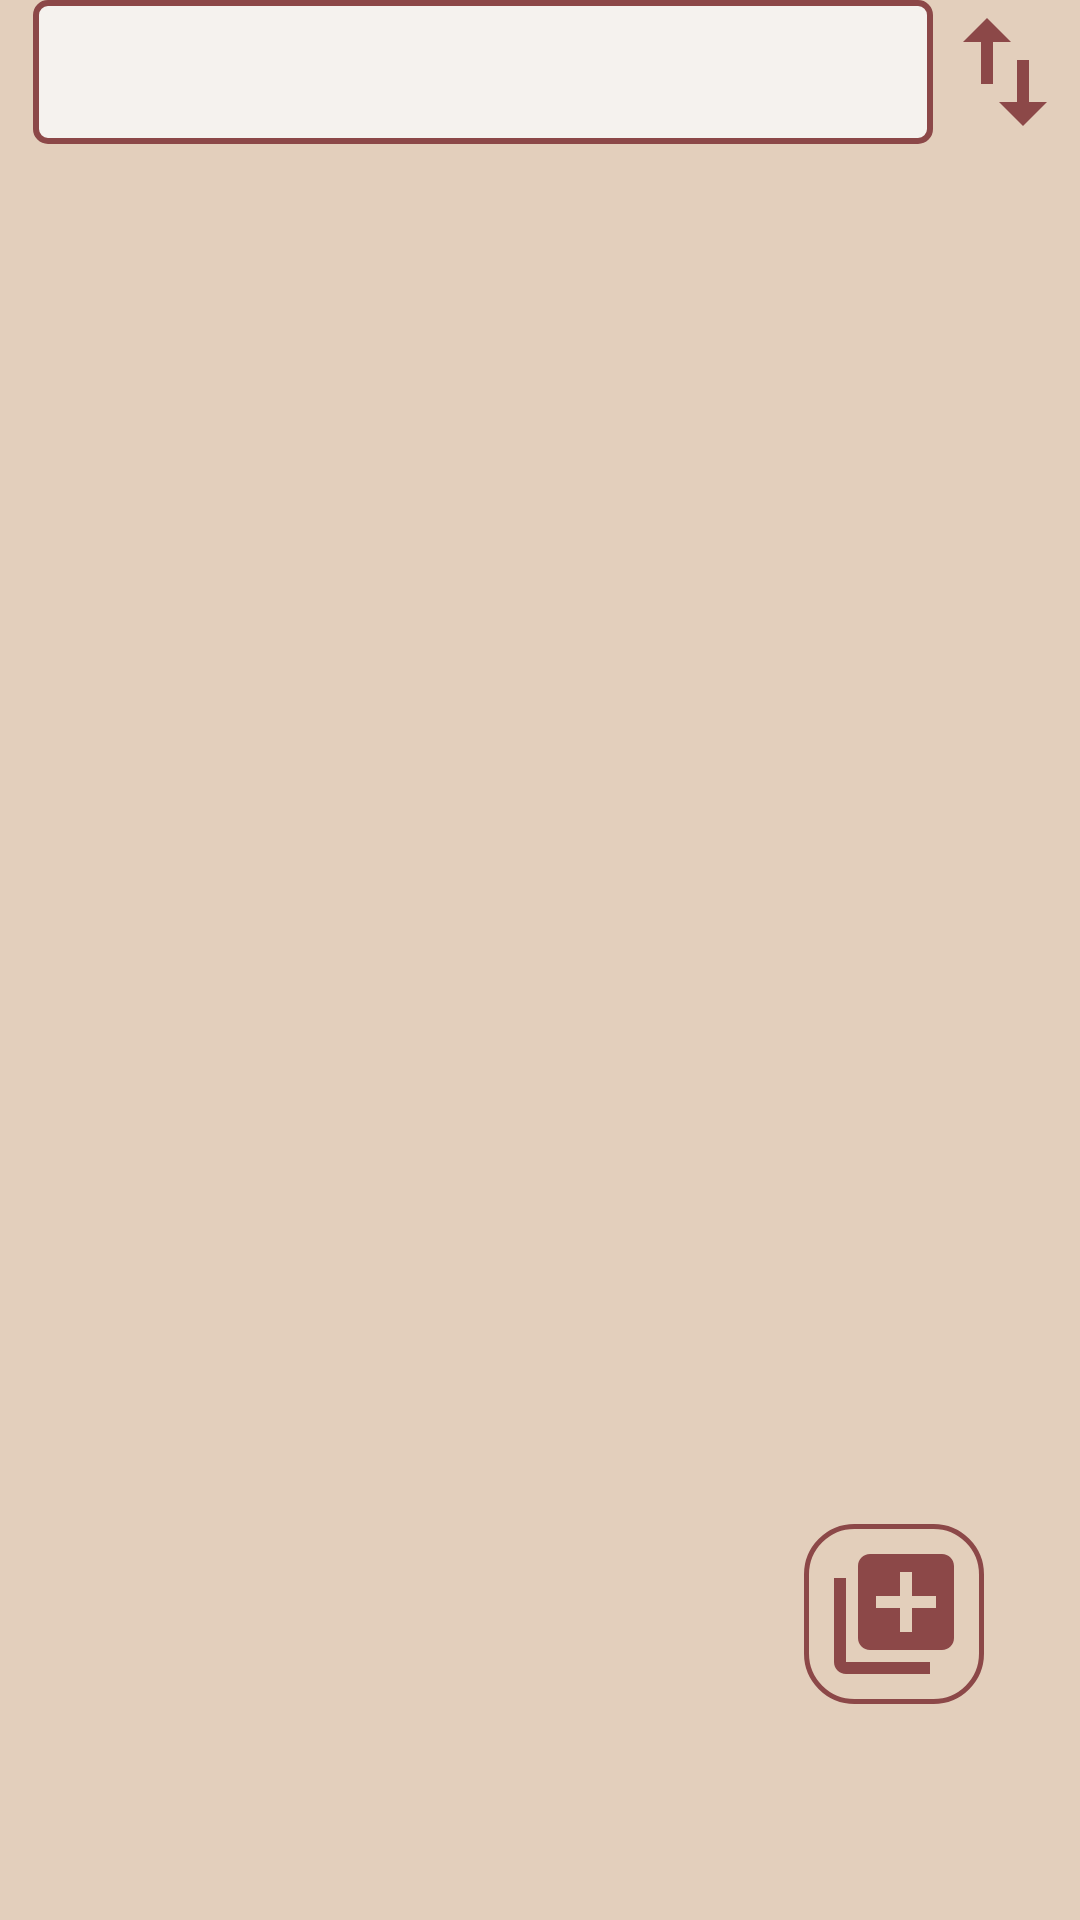

Named icons in this screenshot (1080 x 1920) and their bounding boxes, (x1, y1, x2, y2):
library add: (804, 1524, 984, 1704)
swap vert: (963, 18, 1047, 126)
